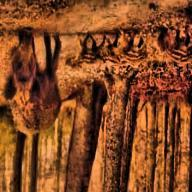boar: (1, 20, 62, 141), (65, 26, 99, 81), (158, 26, 191, 66), (107, 35, 146, 66), (91, 39, 104, 66)
